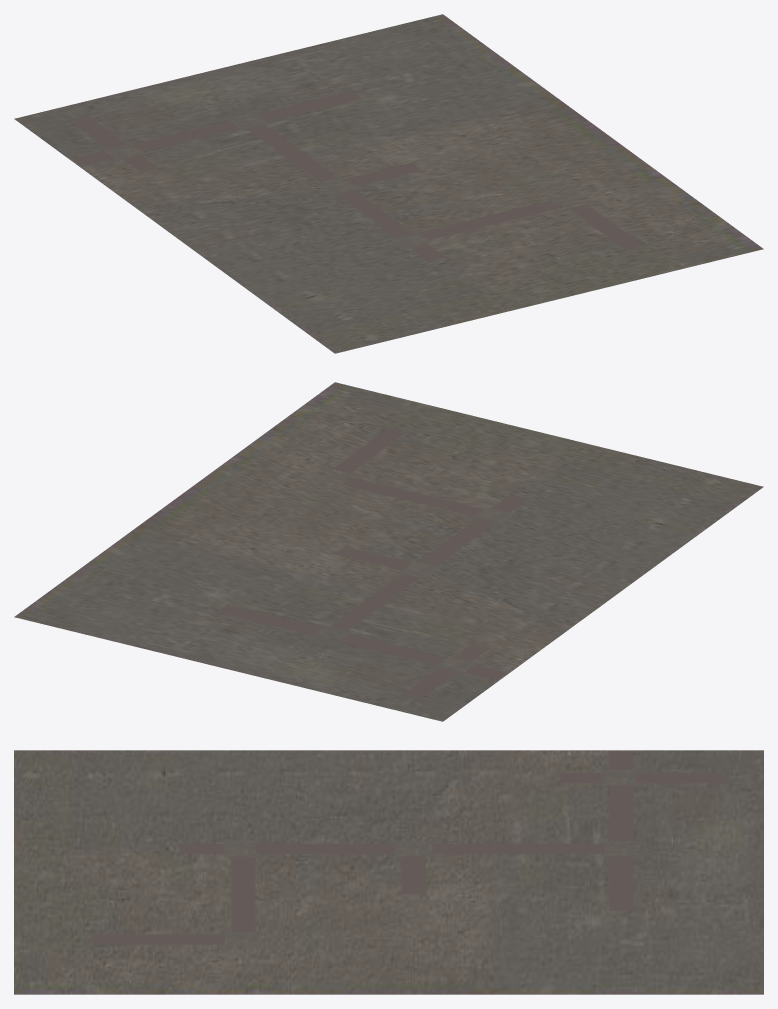
The model's file is road02.fbx.
3 renders of one model, top to bottom at view 1: azimuth 30°, elevation 25°; view 2: azimuth 150°, elevation 25°; view 3: azimuth 270°, elevation 25°, orthographic. The views are drawn at different scales.
Parts seen in each view (by area): view 1: road02; view 2: road02; view 3: road02.
Boxes of the visible parts, x1,y1,x2,y2 form: road02: (14,14,763,353); road02: (14,382,763,721); road02: (14,750,763,994).
Size of the model in its own units: 14282 by 10.69 by 18510.
Materials: 1 (1 with a texture image).
